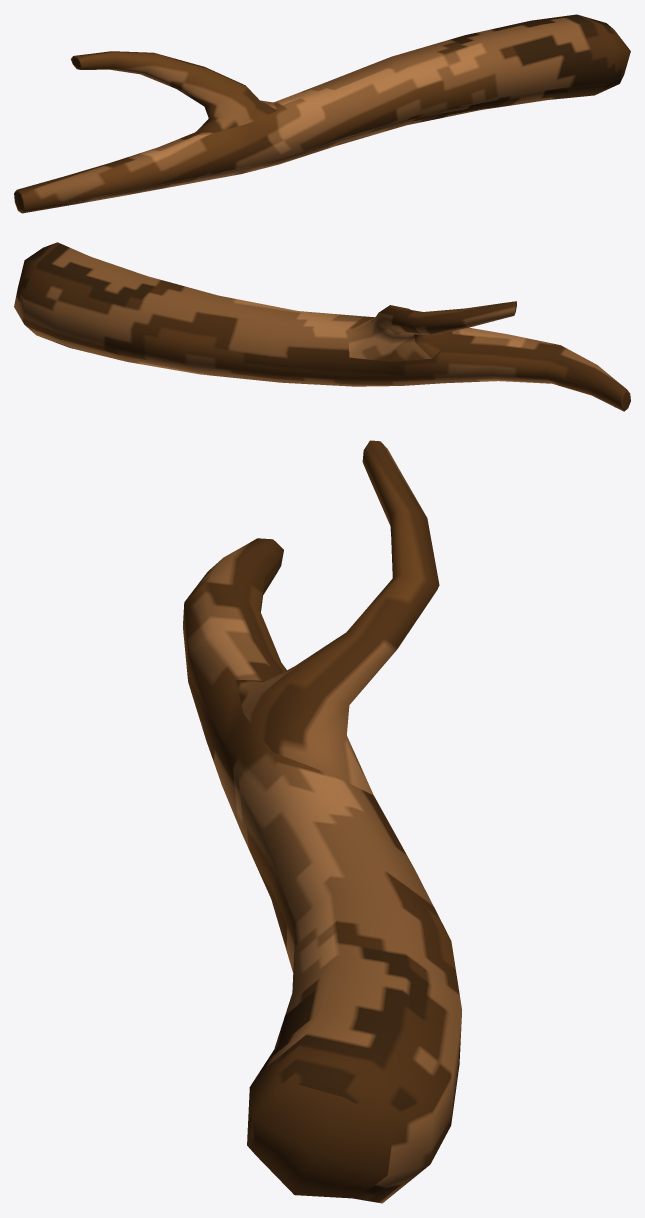
File: Pranch 1.fbx
3 renders of one model, top to bottom at view 1: azimuth 30°, elevation 25°; view 2: azimuth 150°, elevation 25°; view 3: azimuth 270°, elevation 25°, orthographic. The views are drawn at different scales.
Parts seen in each view (by area): view 1: pCube66; view 2: pCube66; view 3: pCube66.
Boxes of the visible parts, x1=… form: pCube66: x1=14, y1=14, x2=630, y2=213; pCube66: x1=14, y1=242, x2=630, y2=411; pCube66: x1=183, y1=440, x2=461, y2=1203.
Size of the model in its own units: 51.65 by 12.46 by 10.62.
1 material, 1 textured.
